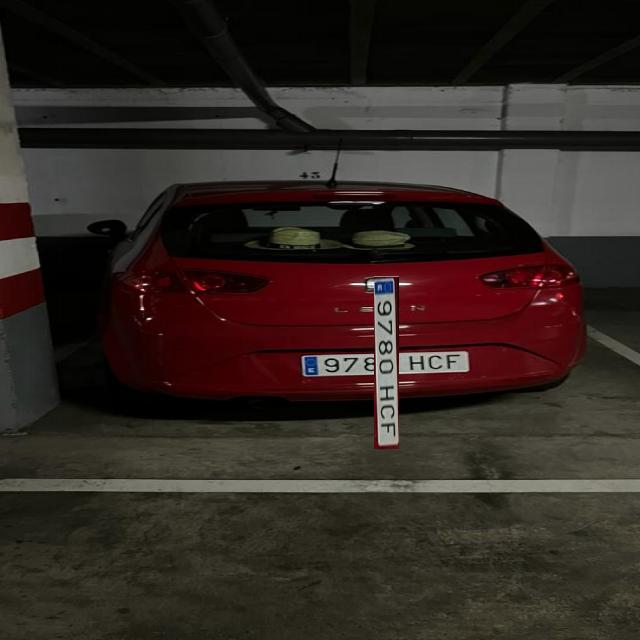License-Plate: (337, 313, 436, 413)
